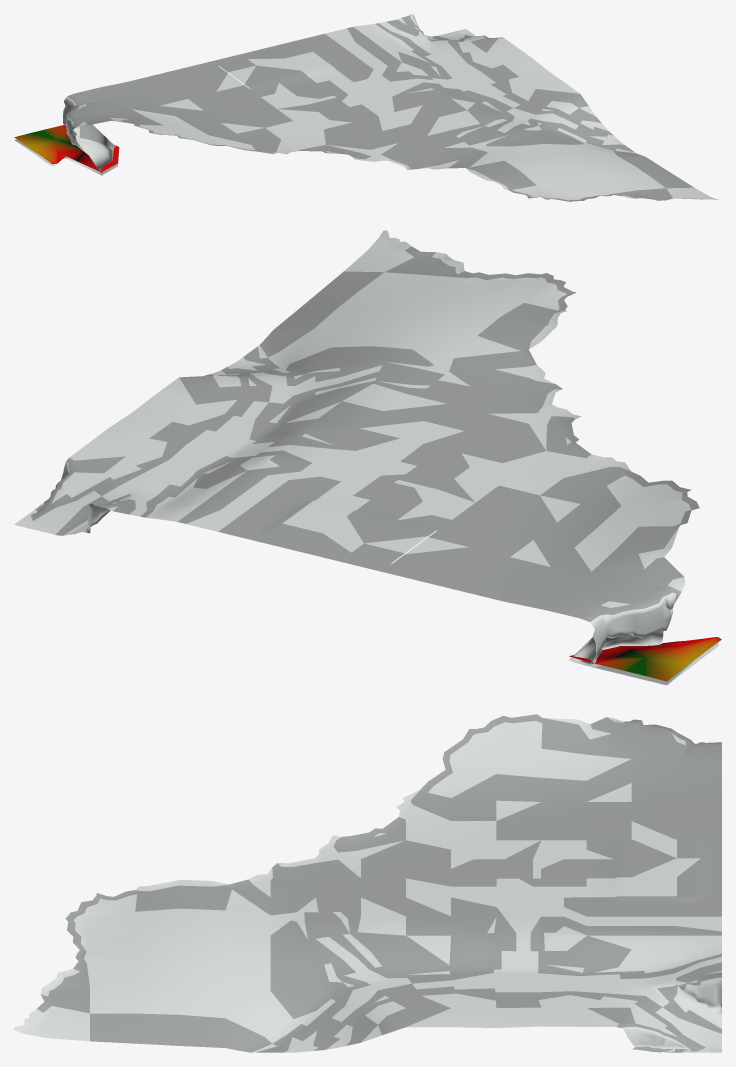
3 renders of one model, top to bottom at view 1: azimuth 30°, elevation 25°; view 2: azimuth 150°, elevation 25°; view 3: azimuth 270°, elevation 25°, orthographic. The views are drawn at different scales.
Parts seen in each view (by area): view 1: G:\FFXIV-MapTools\exports\f1f1\bg\ffxiv\fst_f1\fld\f1f1\bgpl (×17); view 2: G:\FFXIV-MapTools\exports\f1f1\bg\ffxiv\fst_f1\fld\f1f1\bgpl (×17); view 3: G:\FFXIV-MapTools\exports\f1f1\bg\ffxiv\fst_f1\fld\f1f1\bgpl (×15).
Boxes of the visible parts, <box> form: G:\FFXIV-MapTools\exports\f1f1\bg\ffxiv\fst_f1\fld\f1f1\bgpl (×17): <box>14,16,718,201</box>; G:\FFXIV-MapTools\exports\f1f1\bg\ffxiv\fst_f1\fld\f1f1\bgpl (×17): <box>14,230,721,681</box>; G:\FFXIV-MapTools\exports\f1f1\bg\ffxiv\fst_f1\fld\f1f1\bgpl (×15): <box>14,714,721,1052</box>.
Size of the model in its own units: 128 by 18.63 by 125.
